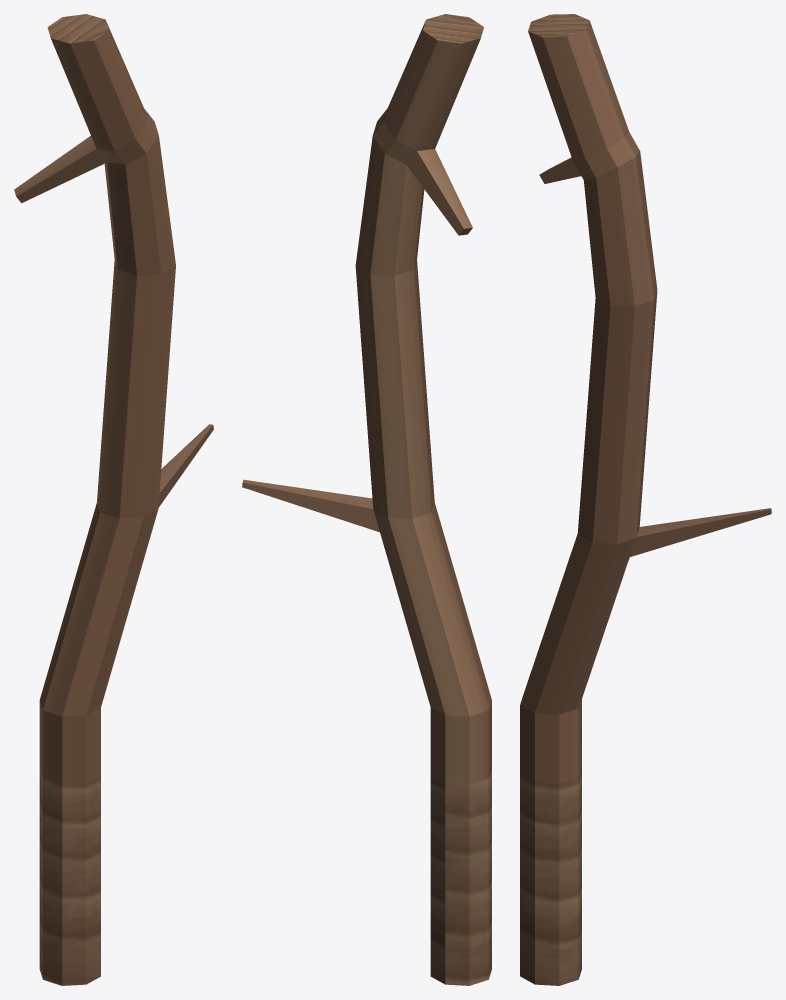
Rendered from FakeItemStick1PrehistoricPuzzle1.fbx.
3 renders of one model, left to right at view 1: azimuth 30°, elevation 25°; view 2: azimuth 150°, elevation 25°; view 3: azimuth 330°, elevation 25°, orthographic.
Parts seen in each view (by area): view 1: Cylinder.003; view 2: Cylinder.003; view 3: Cylinder.003.
Boxes of the visible parts, x1,y1,x2,y2 form: Cylinder.003: (14, 14, 213, 985); Cylinder.003: (242, 14, 491, 985); Cylinder.003: (520, 14, 771, 985).
Bounding box in the file's own units: 226 × 955 × 102.
Materials: 1 (1 with a texture image).
